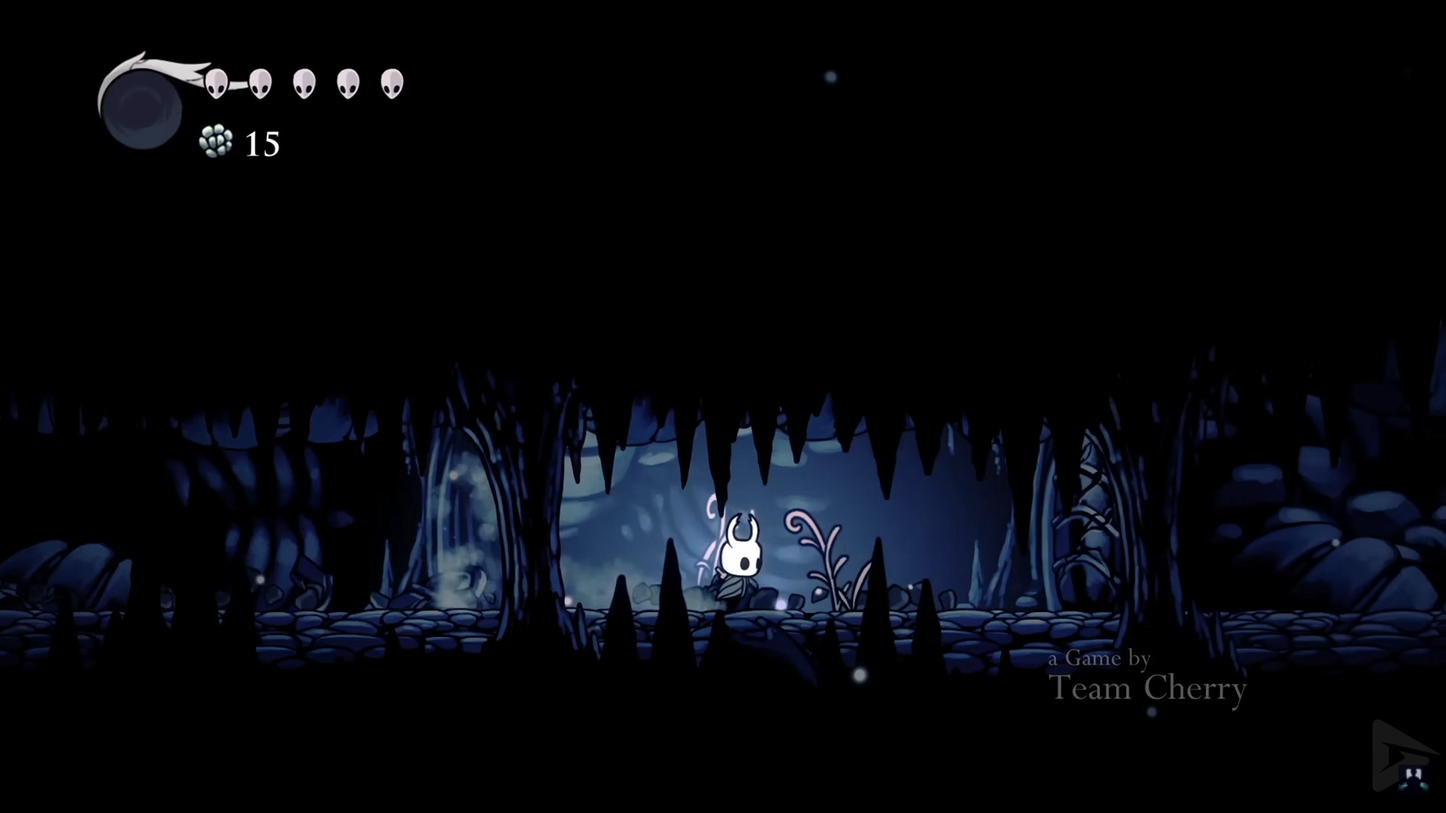HK: (705, 513, 768, 614)
